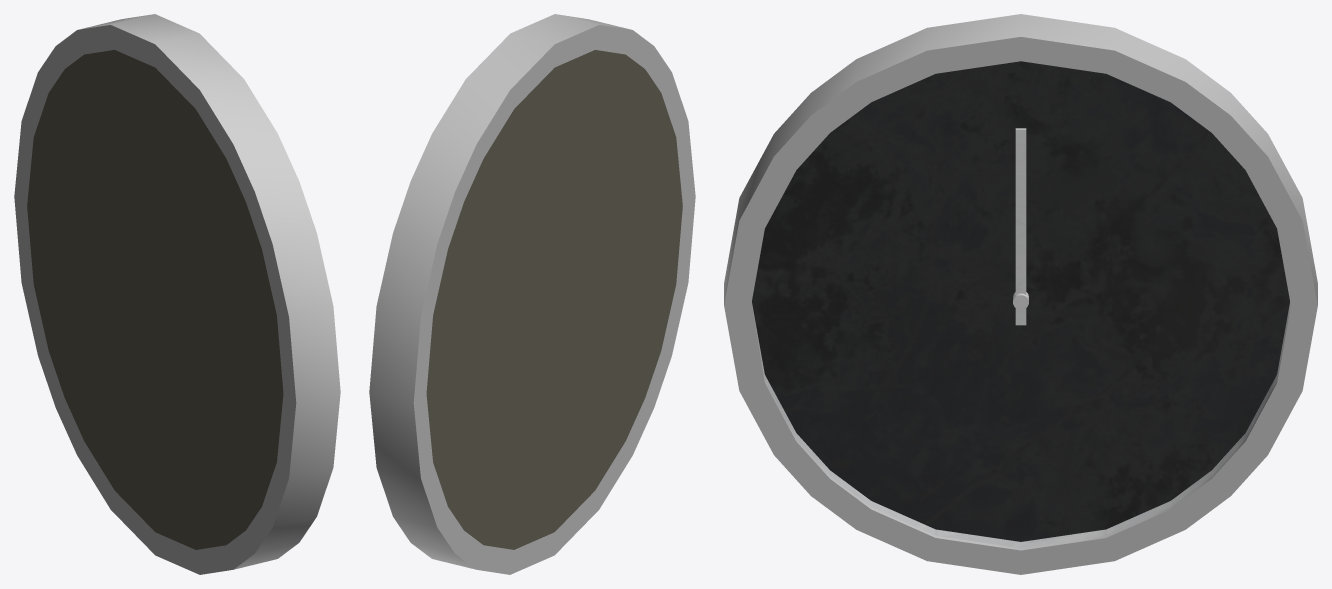
File: RELOJ (1).obj
3 views of the same model, side by side, from view 1: azimuth 30°, elevation 25°; view 2: azimuth 150°, elevation 25°; view 3: azimuth 270°, elevation 25° (orthographic). The views are drawn at different scales.
Visible parts, largest first — view 1: Clockface1, Union1; view 2: Clockface1, Union1; view 3: Clockface2, Glass1, Union1, Minutehand1.
Part boxes in pixels (bbox=[...]): Clockface1: bbox=[27, 50, 283, 549]; Union1: bbox=[14, 14, 340, 574]; Clockface1: bbox=[426, 50, 682, 549]; Union1: bbox=[369, 14, 695, 574]; Clockface2: bbox=[752, 61, 1289, 541]; Glass1: bbox=[751, 62, 1289, 547]; Union1: bbox=[724, 14, 1317, 574]; Minutehand1: bbox=[1015, 128, 1026, 325].
Bounding box in the file's own units: 0.2 × 2.2 × 2.2.
